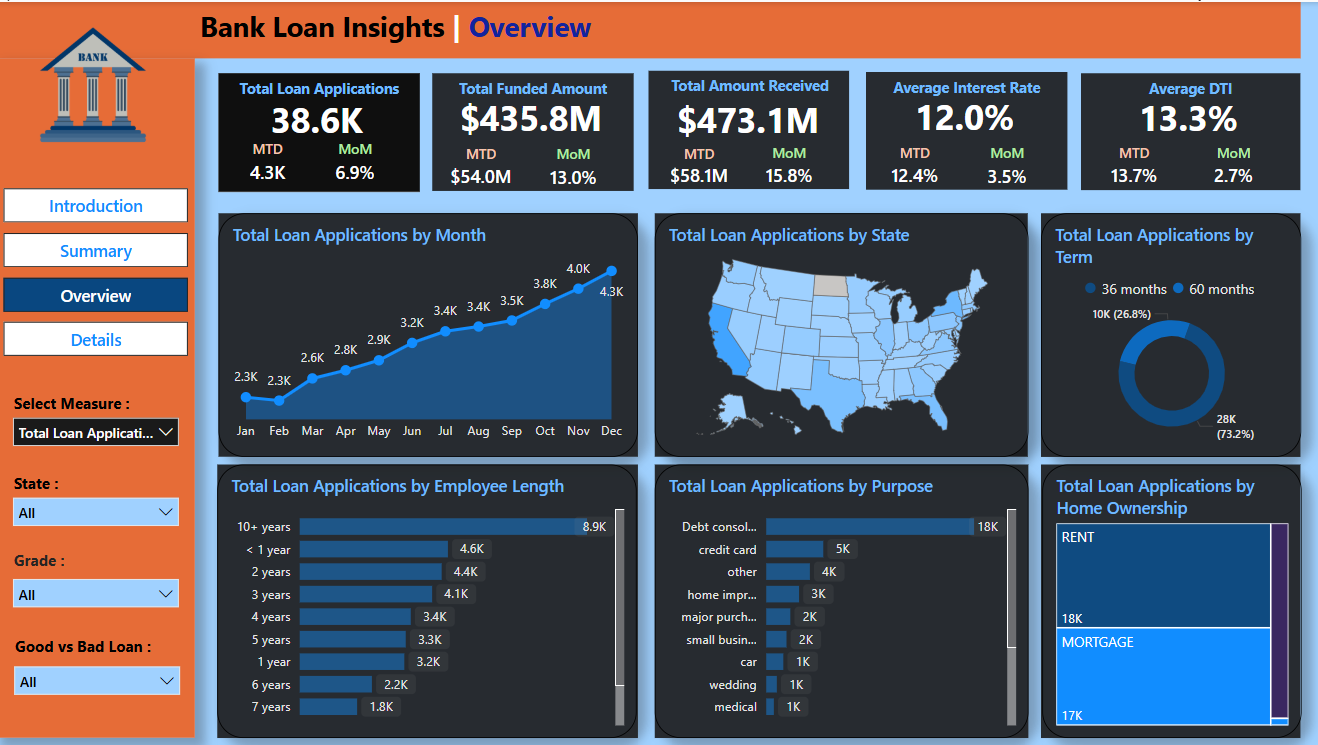

The page's visual inventory and layout, read from the dashboard file:
{"tool":"powerbi","page":{"name":"Overview","canvas":[1280,720],"ordinal":2},"visuals":[{"type":"shape","box":[629.2,66.4,193.8,114.2],"z":0,"group":"g3"},{"type":"shape","box":[839.7,67.5,194.5,114],"z":0,"group":"g4"},{"type":"shape","box":[214.3,68.6,194.3,114.3],"z":0,"group":"g1"},{"type":"shape","box":[421.4,68.6,194.5,114],"z":0,"group":"g2"},{"type":"shape","box":[1047.5,69,211.7,112.9],"z":0,"group":"g5"},{"type":"shape","box":[214.3,204.3,405,235],"z":0},{"type":"shape","box":[0,0,1259.3,54.7],"z":1000},{"type":"card","fields":{"Values":["table_measures.avg_interest_rate"]},"box":[851.5,82.1,165.9,58.4],"z":1000,"group":"g4"},{"type":"card","fields":{"Values":["table_measures.total_loan_appl"]},"box":[247.2,83.2,124.3,61.3],"z":1000,"group":"g1"},{"type":"card","fields":{"Values":["table_measures.total_funded_amt"]},"box":[433.2,83.2,165.9,58.4],"z":1000,"group":"g2"},{"type":"card","fields":{"Values":["table_measures.avg_DTI"]},"box":[1060.3,83.4,180.6,57.8],"z":1000,"group":"g5"},{"type":"card","fields":{"Values":["table_measures.total_received_amt"]},"box":[643.2,85.3,163.1,55.8],"z":1000,"group":"g3"},{"type":"shape","box":[0,54.7,191.9,655.8],"z":2000},{"type":"textbox","box":[632.2,67,191,41.6],"z":2000,"group":"g3"},{"type":"textbox","box":[839.7,67.5,194.5,38.9],"z":2000,"group":"g4"},{"type":"textbox","box":[214.3,68.6,194.3,39],"z":2000,"group":"g1"},{"type":"textbox","box":[421.4,68.6,194.5,38.9],"z":2000,"group":"g2"},{"type":"textbox","box":[1047.5,69,211.7,38.5],"z":2000,"group":"g5"},{"type":"card","title":"MTD","fields":{"Values":["table_measures.MTD_loan_appl"]},"box":[235.7,132.7,51.4,50.2],"z":3000,"group":"g1"},{"type":"card","title":"MTD","fields":{"Values":["table_measures.MTD_interest_rate"]},"box":[851.5,136.3,70.1,48.6],"z":3000,"group":"g4"},{"type":"card","title":"MTD","fields":{"Values":["table_measures.MTD_received_amt"]},"box":[643.2,137.1,68.9,46.5],"z":3000,"group":"g3"},{"type":"card","title":"MTD","fields":{"Values":["table_measures.MTD_avg_DTI"]},"box":[1060.3,137.1,76.3,48.2],"z":3000,"group":"g5"},{"type":"card","title":"MTD","fields":{"Values":["table_measures.MTD_funded_amt"]},"box":[433.2,137.4,70.1,48.6],"z":3000,"group":"g2"},{"type":"textbox","box":[12.4,448.7,119.7,38.5],"z":3000},{"type":"textbox","box":[191.8,0,447.6,49.5],"z":4000},{"type":"card","title":"MoM","fields":{"Values":["table_measures.MOM_loan_appl"]},"box":[320,132.7,51.4,50.2],"z":4000,"group":"g1"},{"type":"card","title":"MoM","fields":{"Values":["table_measures.MOM_interest_rate"]},"box":[946.6,136.1,57.8,49.7],"z":4000,"group":"g4"},{"type":"card","title":"MoM","fields":{"Values":["table_measures.MOM_received_amt"]},"box":[736.7,136.9,56.8,47.5],"z":4000,"group":"g3"},{"type":"card","title":"MoM","fields":{"Values":["table_measures.MOM_avg_DTI"]},"box":[1163.9,136.9,62.9,49.2],"z":4000,"group":"g5"},{"type":"card","title":"MoM","fields":{"Values":["table_measures.MOM_funded_amt"]},"box":[528.3,137.2,57.8,49.7],"z":4000,"group":"g2"},{"type":"group","id":"g1","title":"Group 1","box":[214.3,68.6,194.3,114.3],"z":5000},{"type":"group","id":"g2","title":"Group 1","box":[421.4,68.6,194.3,118],"z":6000},{"type":"group","id":"g3","title":"Group 1","box":[629.2,66.4,194,118],"z":7000},{"type":"group","id":"g4","title":"Group 1","box":[839.7,67.5,194.5,118.2],"z":8000},{"type":"group","id":"g5","title":"Group 1","box":[1047.5,69,211.5,116.9],"z":9000},{"type":"shape","box":[635.9,203.7,360,235],"z":10000},{"type":"slicer","fields":{"Values":["financial_loan.address_state"]},"box":[5.5,468,180.3,50.9],"z":11000},{"type":"slicer","fields":{"Values":["financial_loan.grade"]},"box":[5.5,546.4,180.3,50.9],"z":12000},{"type":"textbox","box":[12.4,523,119.7,38.5],"z":13000},{"type":"slicer","fields":{"Values":["financial_loan.Good vs Band Loan"]},"box":[6.9,630.4,180.3,50.9],"z":14000},{"type":"textbox","box":[13.8,607,163.8,38.5],"z":15000},{"type":"areaChart","fields":{"Y":["table_measures.total_loan_appl"],"Category":["Date Table.Month"]},"box":[214.7,203.7,404.6,235.4],"z":16000},{"type":"slicer","fields":{"Values":["Select Measure.Select Measure"]},"box":[5.5,390.9,180.3,55.1],"z":17000},{"type":"shape","box":[213.3,445.9,406,264.3],"z":18000},{"type":"shapeMap","fields":{"Value":["table_measures.total_loan_appl"],"Category":["financial_loan.address_state"]},"box":[635.9,203.7,360.6,235.4],"z":19000},{"type":"shape","box":[1008.9,203.7,250.5,235.4],"z":20000},{"type":"donutChart","fields":{"Y":["table_measures.total_loan_appl"],"Category":["financial_loan.term"]},"box":[1008.1,203.5,251.2,234.9],"z":21000},{"type":"barChart","fields":{"Y":["table_measures.total_loan_appl"],"Category":["financial_loan.emp_length"]},"box":[213.3,445.9,404.6,264.3],"z":22000},{"type":"textbox","box":[12.4,371.6,139,38.5],"z":23000},{"type":"shape","box":[635.9,445.9,360.6,264.3],"z":24000},{"type":"barChart","fields":{"Y":["table_measures.total_loan_appl"],"Category":["financial_loan.purpose"]},"box":[635.9,445.9,360.6,264.3],"z":25000},{"type":"shape","box":[1008.9,445.9,250.5,264.3],"z":26000},{"type":"treemap","fields":{"Values":["table_measures.total_loan_appl"],"Group":["financial_loan.home_ownership"]},"box":[1009.3,446.5,250,264],"z":27000},{"type":"pageNavigator","box":[6.9,180.3,178.9,163.8],"z":28000},{"type":"image","box":[0,1.4,187.2,156.9],"z":29000}]}

Visuals, with their boxes in screenshot pixels (x1, y1, x2, y2), scaled from the page's 1280x720 canvas onto the 1318x745 screenshot:
shape: bbox=[648, 69, 847, 187]
shape: bbox=[865, 70, 1065, 188]
shape: bbox=[221, 71, 421, 189]
shape: bbox=[434, 71, 634, 189]
shape: bbox=[1079, 71, 1297, 188]
shape: bbox=[221, 211, 638, 455]
shape: bbox=[0, 0, 1297, 57]
card - table_measures.avg_interest_rate: bbox=[877, 85, 1048, 145]
card - table_measures.total_loan_appl: bbox=[255, 86, 383, 150]
card - table_measures.total_funded_amt: bbox=[446, 86, 617, 147]
card - table_measures.avg_DTI: bbox=[1092, 86, 1278, 146]
card - table_measures.total_received_amt: bbox=[662, 88, 830, 146]
shape: bbox=[0, 57, 198, 735]
textbox: bbox=[651, 69, 848, 112]
textbox: bbox=[865, 70, 1065, 110]
textbox: bbox=[221, 71, 421, 111]
textbox: bbox=[434, 71, 634, 111]
textbox: bbox=[1079, 71, 1297, 111]
"MTD" card: bbox=[243, 137, 296, 189]
"MTD" card: bbox=[877, 141, 949, 191]
"MTD" card: bbox=[662, 142, 733, 190]
"MTD" card: bbox=[1092, 142, 1170, 192]
"MTD" card: bbox=[446, 142, 518, 192]
textbox: bbox=[13, 464, 136, 504]
textbox: bbox=[197, 0, 658, 51]
"MoM" card: bbox=[330, 137, 382, 189]
"MoM" card: bbox=[975, 141, 1034, 192]
"MoM" card: bbox=[759, 142, 817, 191]
"MoM" card: bbox=[1198, 142, 1263, 193]
"MoM" card: bbox=[544, 142, 603, 193]
"Group 1" group: bbox=[221, 71, 421, 189]
"Group 1" group: bbox=[434, 71, 634, 193]
"Group 1" group: bbox=[648, 69, 848, 191]
"Group 1" group: bbox=[865, 70, 1065, 192]
"Group 1" group: bbox=[1079, 71, 1296, 192]
shape: bbox=[655, 211, 1025, 454]
slicer - financial_loan.address_state: bbox=[6, 484, 191, 537]
slicer - financial_loan.grade: bbox=[6, 565, 191, 618]
textbox: bbox=[13, 541, 136, 581]
slicer - financial_loan.Good vs Band Loan: bbox=[7, 652, 193, 705]
textbox: bbox=[14, 628, 183, 668]
areaChart - table_measures.total_loan_appl x Date Table.Month: bbox=[221, 211, 638, 454]
slicer - Select Measure.Select Measure: bbox=[6, 404, 191, 461]
shape: bbox=[220, 461, 638, 735]
shapeMap - table_measures.total_loan_appl x financial_loan.address_state: bbox=[655, 211, 1026, 454]
shape: bbox=[1039, 211, 1297, 454]
donutChart - table_measures.total_loan_appl x financial_loan.term: bbox=[1038, 211, 1297, 454]
barChart - table_measures.total_loan_appl x financial_loan.emp_length: bbox=[220, 461, 636, 735]
textbox: bbox=[13, 385, 156, 424]
shape: bbox=[655, 461, 1026, 735]
barChart - table_measures.total_loan_appl x financial_loan.purpose: bbox=[655, 461, 1026, 735]
shape: bbox=[1039, 461, 1297, 735]
treemap - table_measures.total_loan_appl x financial_loan.home_ownership: bbox=[1039, 462, 1297, 735]
pageNavigator: bbox=[7, 187, 191, 356]
image: bbox=[0, 1, 193, 164]
